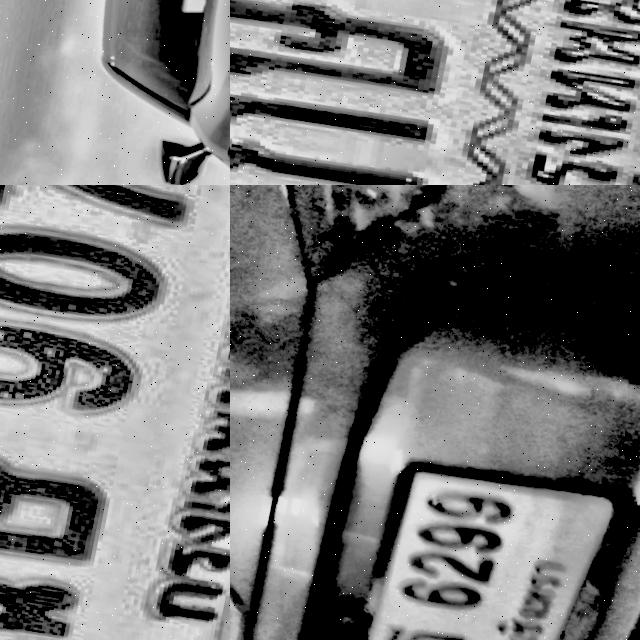license-plate: (0, 185, 230, 640), (230, 0, 640, 185), (368, 475, 615, 640)
